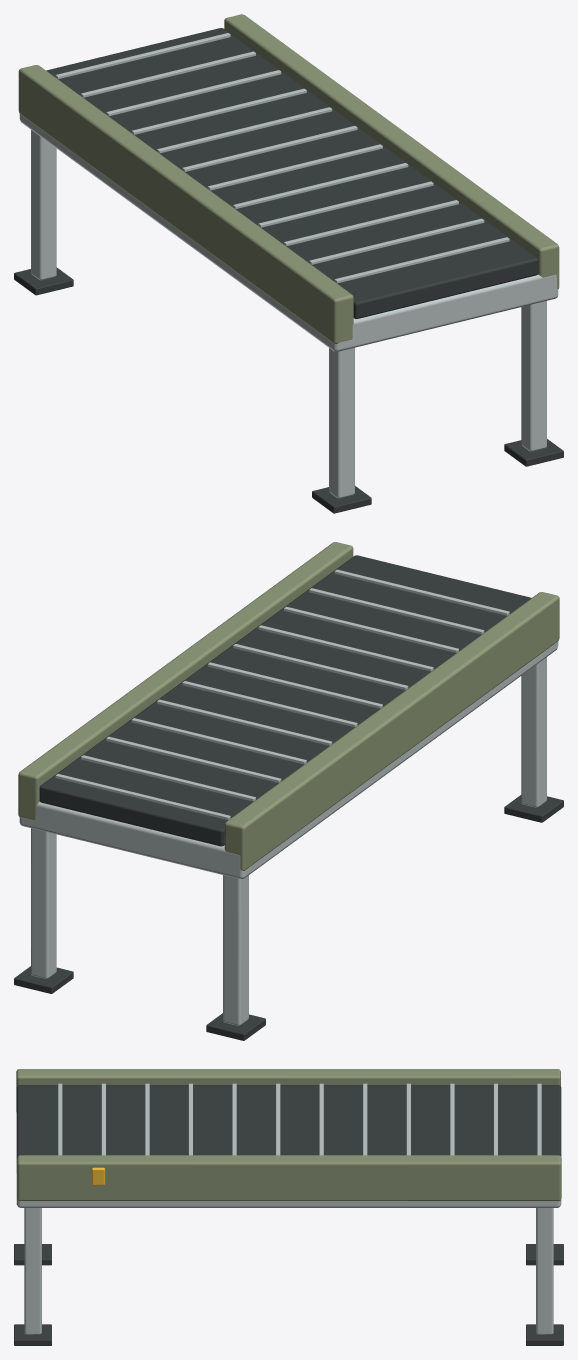
Rendered from mountain-border-checkpoint-mountain-border-checkpoint--71594fe9__30308.glb.
The picture shows the model from 3 angles, top to bottom: view 1: azimuth 30°, elevation 25°; view 2: azimuth 150°, elevation 25°; view 3: azimuth 270°, elevation 25°; orthographic projection. The views are drawn at different scales.
Parts seen in each view (by area): view 1: mountain-border-checkpoint-baggage-conveyor; view 2: mountain-border-checkpoint-baggage-conveyor; view 3: mountain-border-checkpoint-baggage-conveyor.
Boxes of the visible parts, box(x1,y1,x2,y2) form: mountain-border-checkpoint-baggage-conveyor: box(14, 14, 563, 513); mountain-border-checkpoint-baggage-conveyor: box(14, 542, 563, 1040); mountain-border-checkpoint-baggage-conveyor: box(14, 1069, 563, 1345).
Bounding box in the file's own units: 0.8425 × 0.7399 × 2.02.
